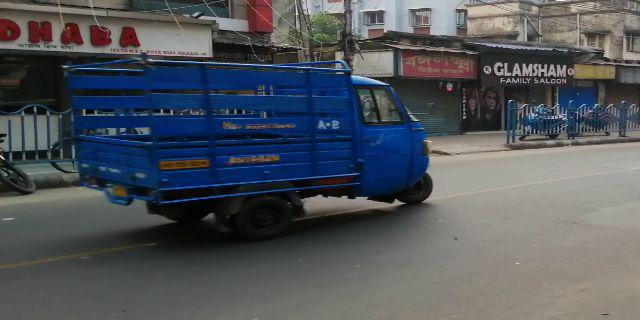Van: (66, 62, 443, 228)
